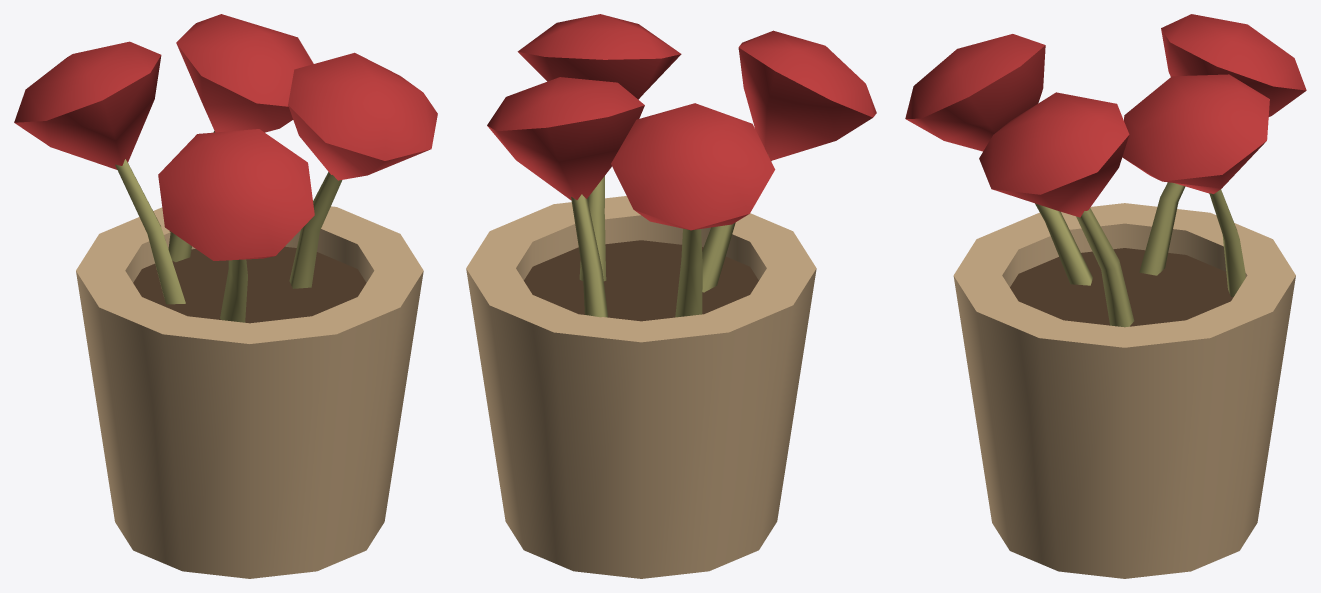
The model's file is SM_pot_flowers.fbx.
3 views of the same model, side by side, from view 1: azimuth 30°, elevation 25°; view 2: azimuth 150°, elevation 25°; view 3: azimuth 270°, elevation 25° (orthographic). The views are drawn at different scales.
Visible parts, largest first — view 1: Cylinder018; view 2: Cylinder018; view 3: Cylinder018.
Boxes of the visible parts, <box> form: Cylinder018: <box>14,14,437,578</box>; Cylinder018: <box>466,14,876,578</box>; Cylinder018: <box>905,14,1306,578</box>.
Bounding box in the file's own units: 22.3 × 30.22 × 24.43.
